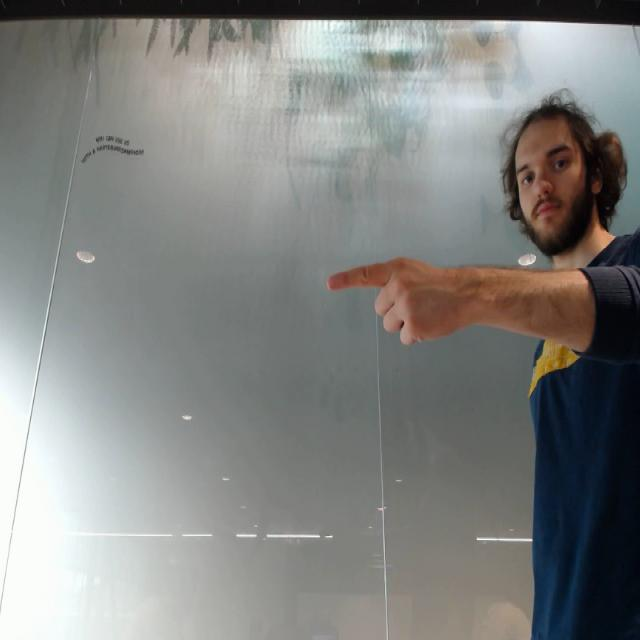left: (324, 250, 471, 354)
